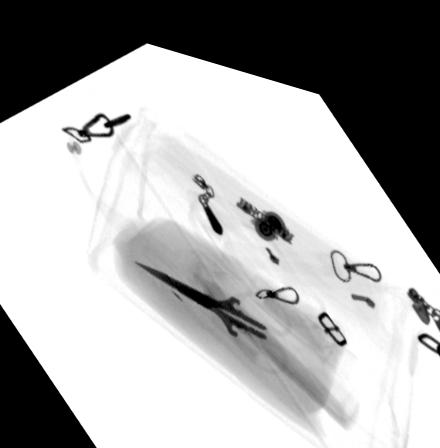Scissors: (132, 251, 294, 356)
